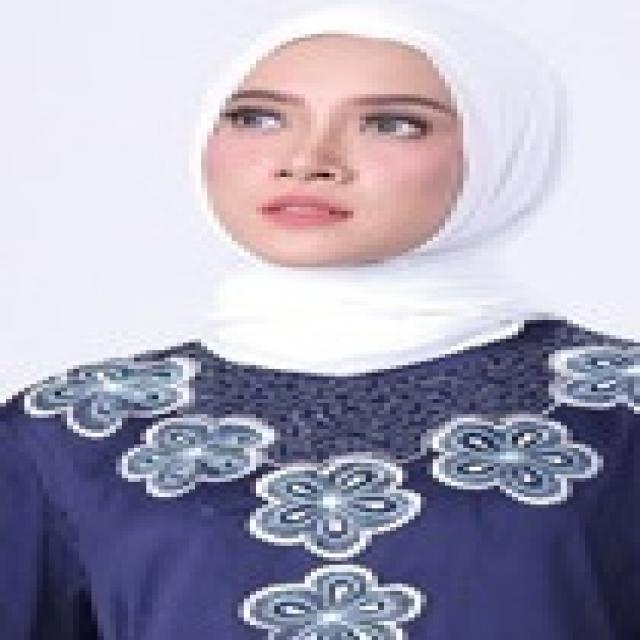head: (164, 17, 568, 276)
